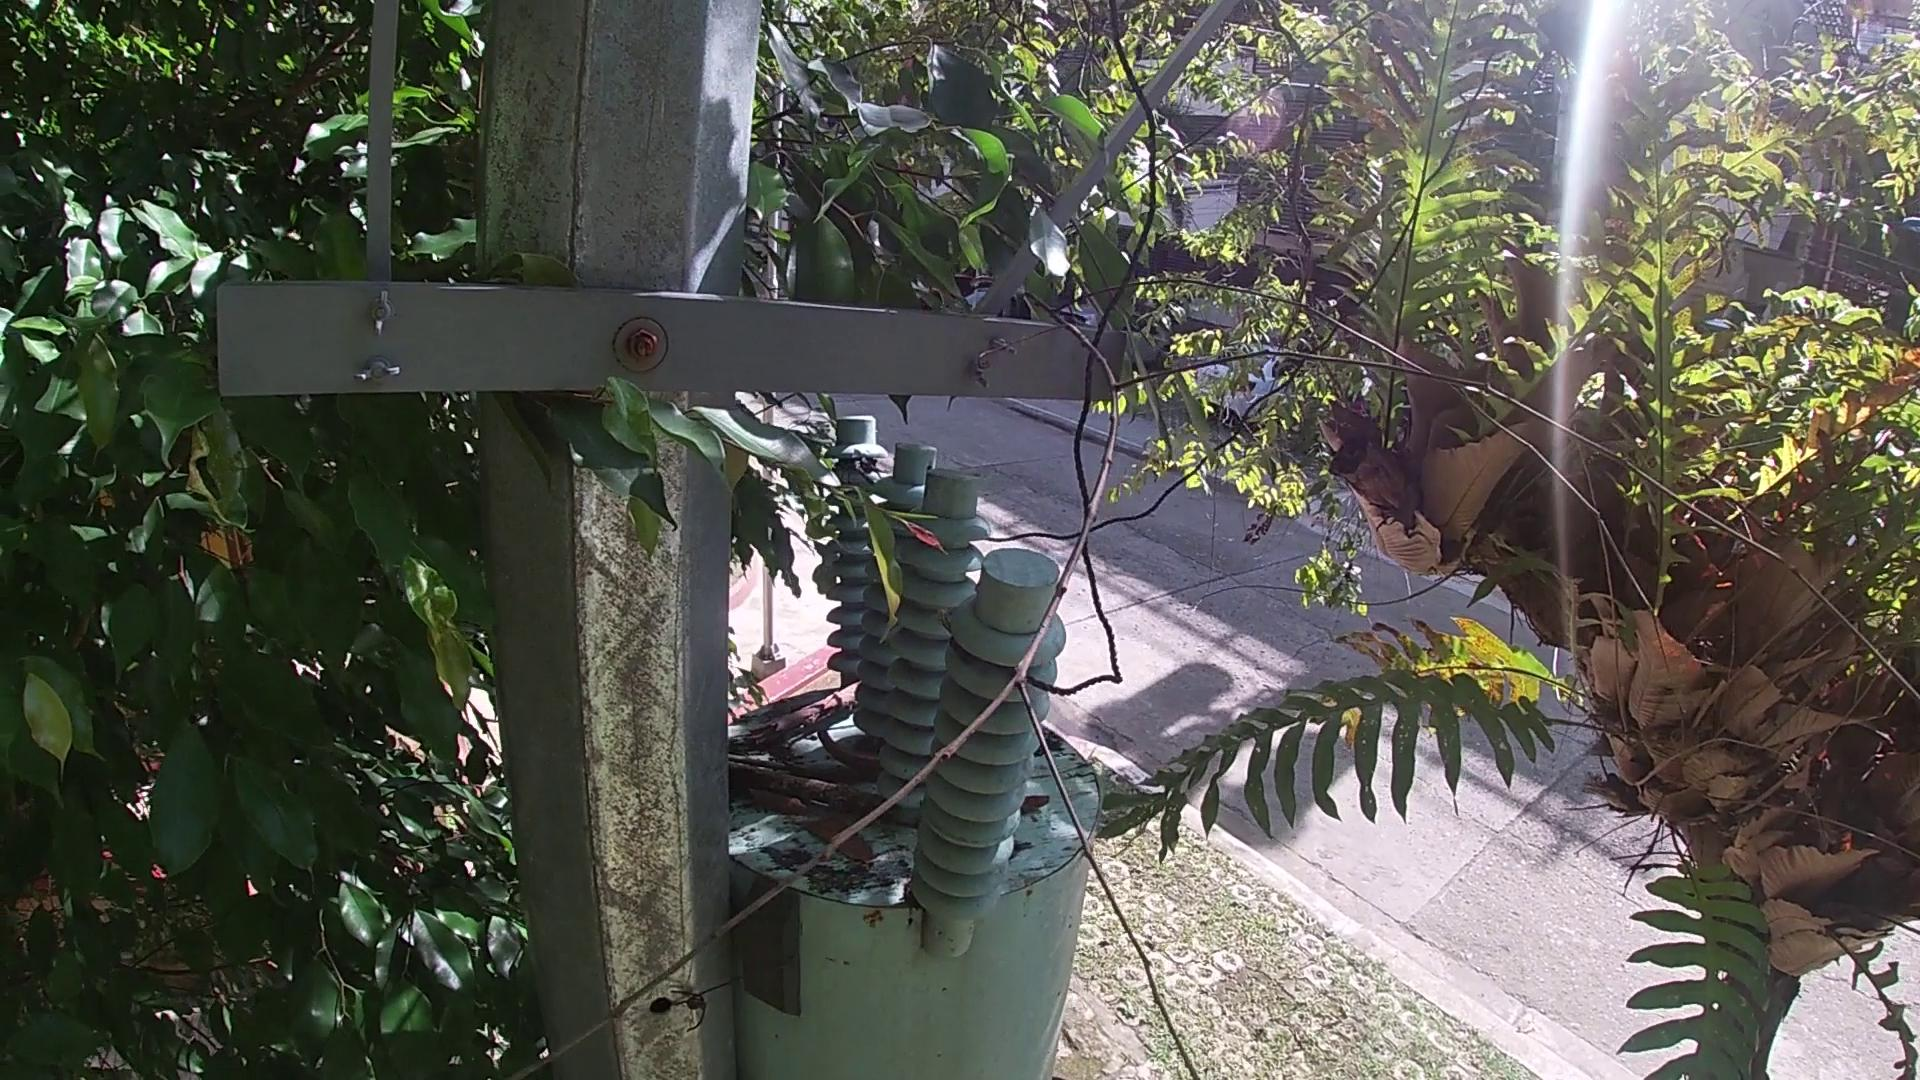leaf: (800, 815, 876, 869), (746, 789, 807, 819), (1017, 793, 1054, 816)
tree branch: (497, 258, 1920, 1077), (729, 752, 891, 818), (740, 680, 865, 756)
